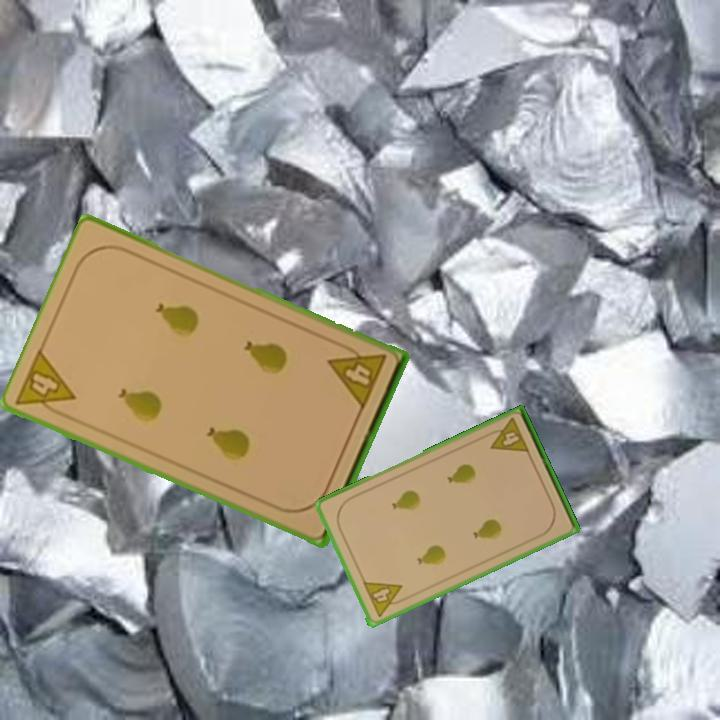4p: (12, 345, 79, 423), (325, 339, 389, 413), (359, 578, 410, 620), (482, 414, 532, 456)
